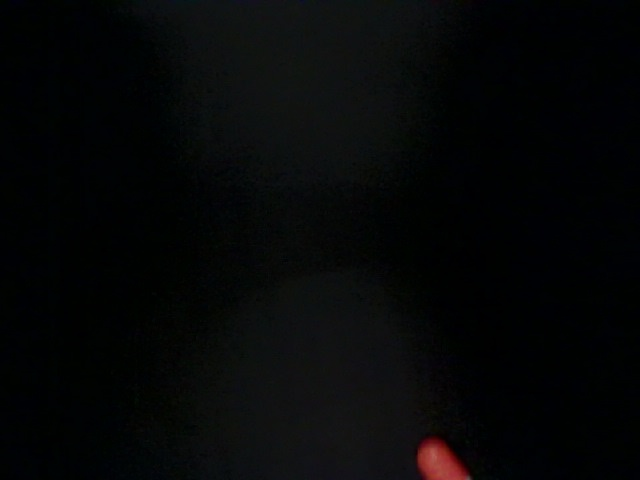YHLJ: (607, 1, 638, 124)
